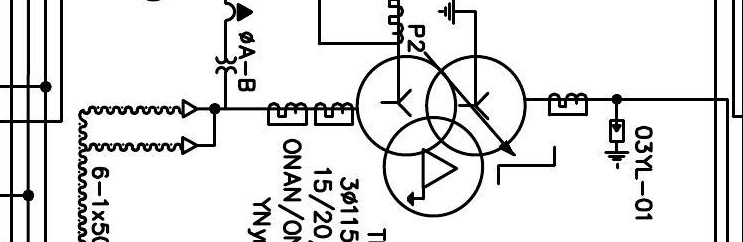11522_tx_ynyn0d1: (354, 54, 528, 219)
115_la: (604, 118, 630, 170)
terminator_double: (181, 98, 217, 156)
